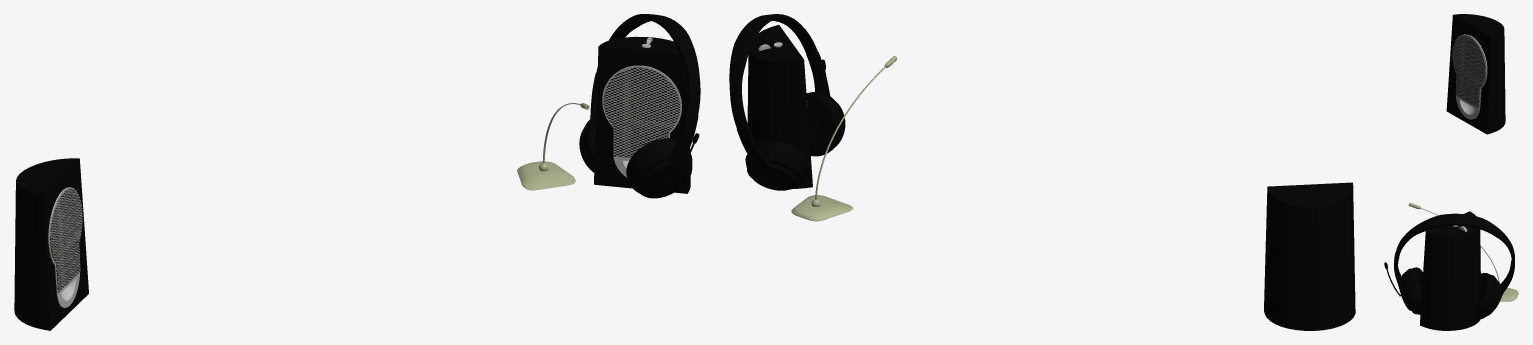
File: ScrivaniaEnzoTelefonoAssistenza2.gltf
The picture shows the model from 3 angles, left to right: view 1: azimuth 30°, elevation 25°; view 2: azimuth 150°, elevation 25°; view 3: azimuth 270°, elevation 25°; orthographic projection. The views are drawn at different scales.
Parts seen in each view (by area): view 1: Bianco Altoparlante SX, Bianco Altoparlante DX, Bianco Cuffie, Bianco Microfono; view 2: Bianco Altoparlante SX, Bianco Cuffie, Bianco Altoparlante DX, Bianco Microfono; view 3: Bianco Altoparlante SX, Bianco Altoparlante DX, Bianco Cuffie, Bianco Microfono.
Boxes of the visible parts, left/top/right/bottom form: Bianco Altoparlante SX: left=14, top=158, right=88, bottom=330; Bianco Altoparlante DX: left=594, top=36, right=690, bottom=193; Bianco Cuffie: left=579, top=14, right=700, bottom=198; Bianco Microfono: left=517, top=103, right=589, bottom=190; Bianco Altoparlante SX: left=1264, top=182, right=1355, bottom=330; Bianco Cuffie: left=729, top=14, right=845, bottom=190; Bianco Altoparlante DX: left=747, top=25, right=812, bottom=188; Bianco Microfono: left=791, top=56, right=897, bottom=221; Bianco Altoparlante SX: left=1446, top=14, right=1505, bottom=134; Bianco Altoparlante DX: left=1420, top=211, right=1480, bottom=330; Bianco Cuffie: left=1384, top=213, right=1514, bottom=318; Bianco Microfono: left=1408, top=202, right=1518, bottom=301.
Size of the model in its own units: 0.8204 by 0.1944 by 0.2083.
5 materials, 1 textured.
